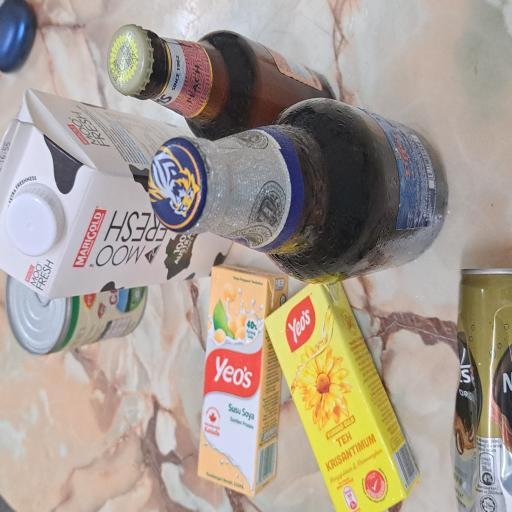can: (117, 5, 179, 197)
drink carton: (160, 0, 316, 312), (0, 352, 178, 512), (11, 262, 189, 382)
glass bottle: (173, 196, 311, 512), (279, 144, 366, 451)
plastic bottle cap: (192, 7, 244, 84)
